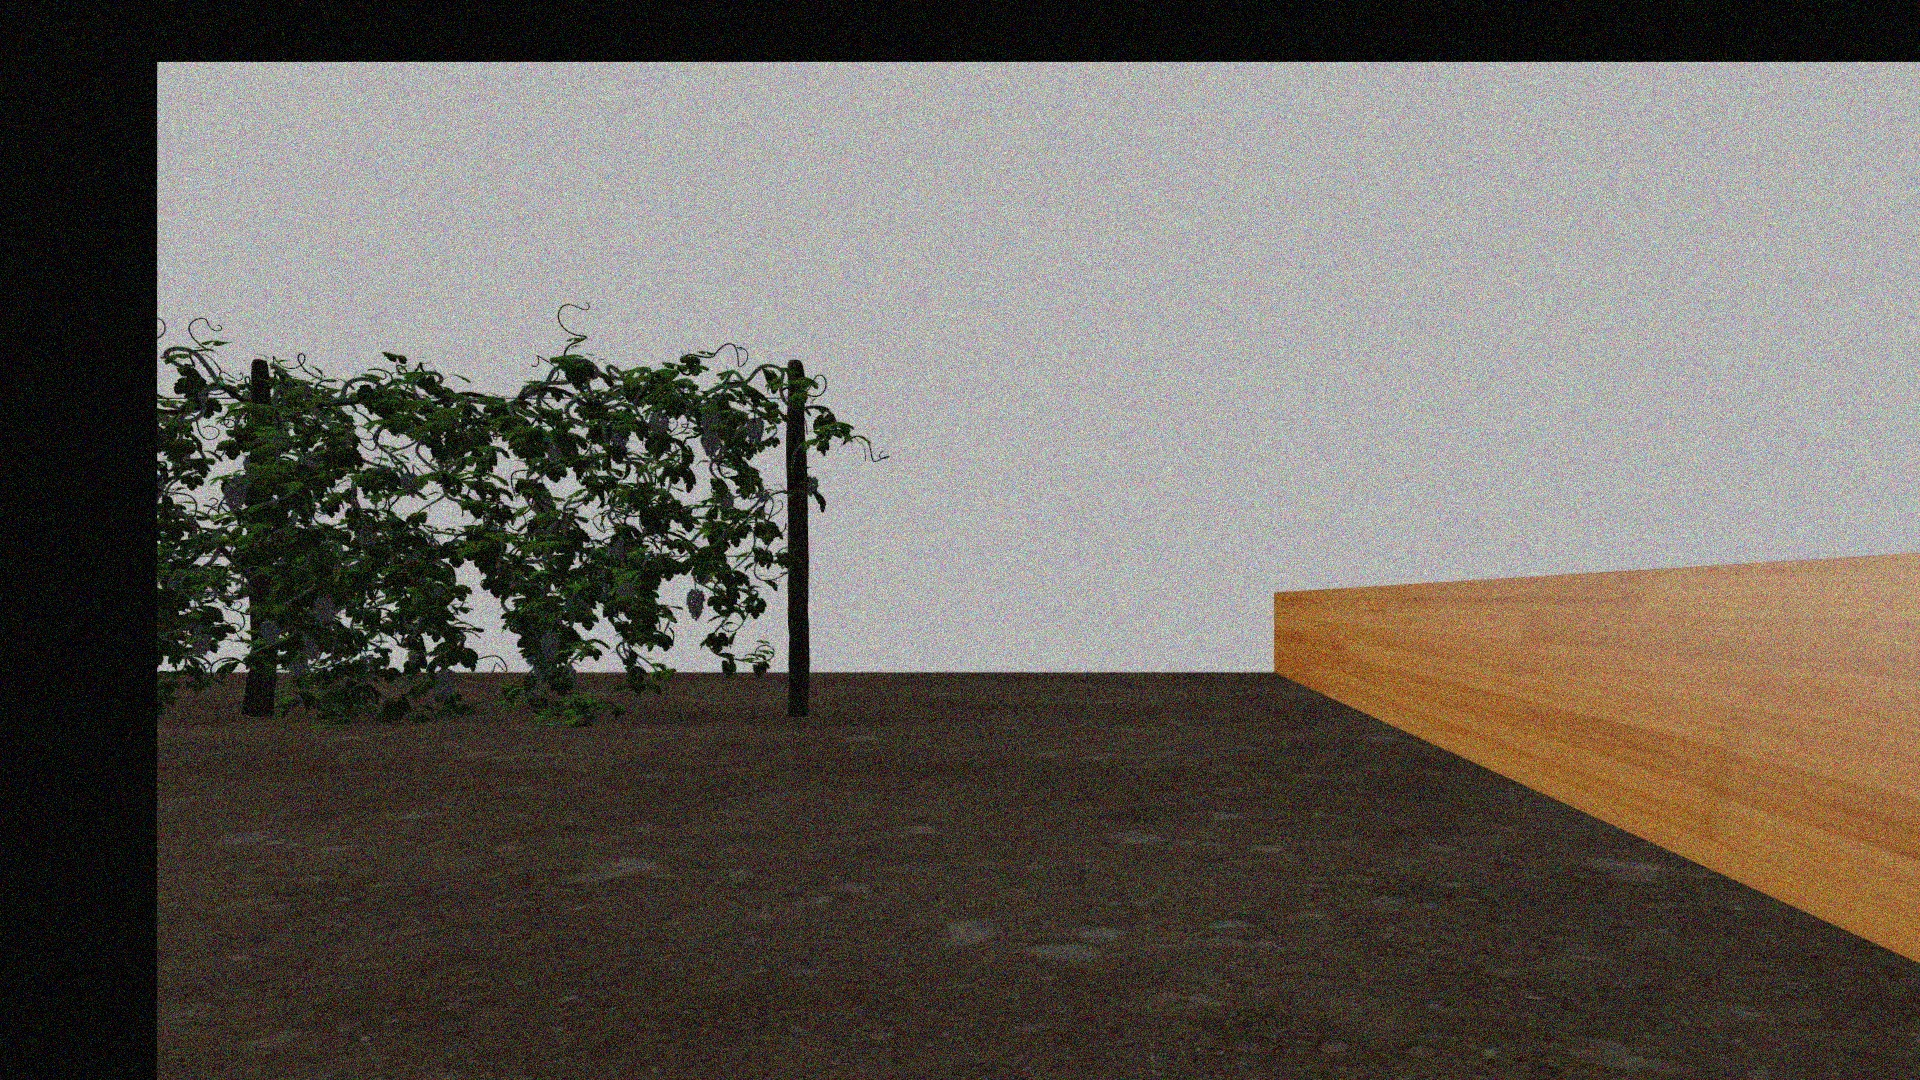grape: (223, 476, 248, 512), (189, 622, 212, 655), (433, 669, 458, 699), (313, 595, 338, 625), (258, 616, 281, 647), (686, 588, 705, 622), (539, 630, 560, 661), (301, 632, 322, 661), (649, 410, 670, 436), (287, 651, 307, 679), (702, 404, 721, 430), (702, 430, 720, 458), (746, 417, 764, 444), (401, 472, 419, 497), (717, 488, 735, 512), (807, 475, 819, 497)
